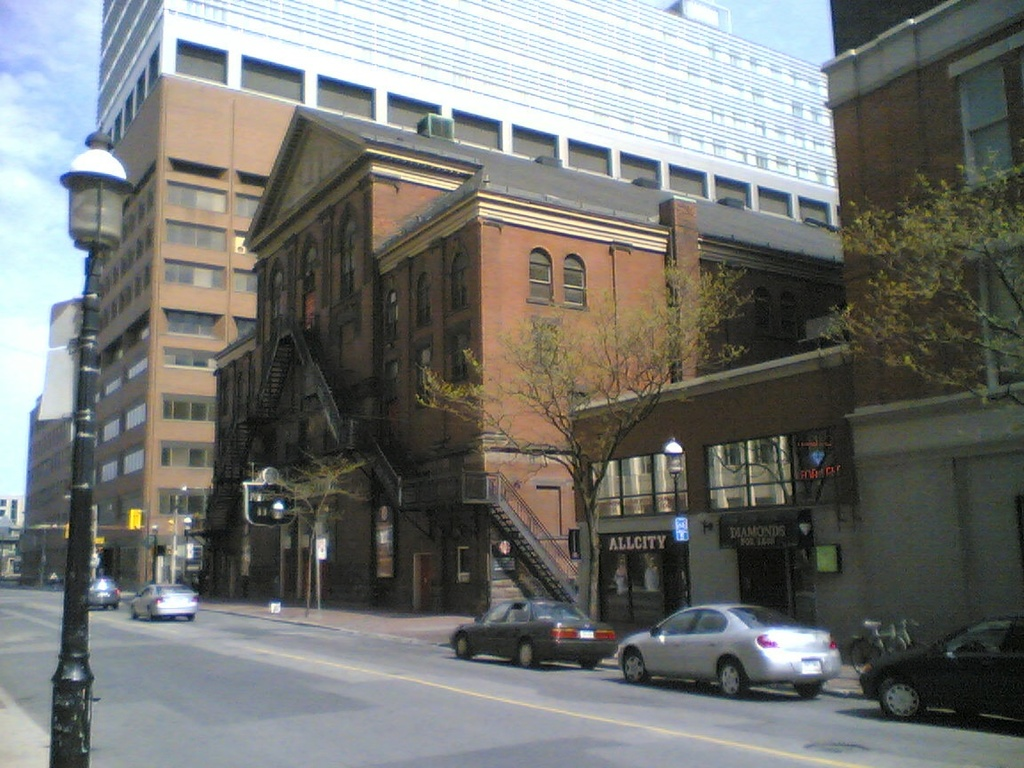Car: (606, 604, 839, 698), (862, 627, 1023, 723), (446, 606, 615, 671), (127, 585, 199, 620), (81, 572, 117, 607)
